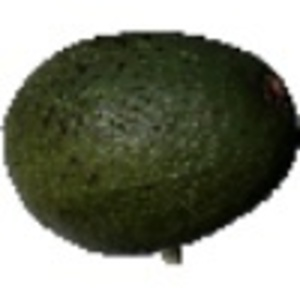abacate: (1, 30, 296, 255)
